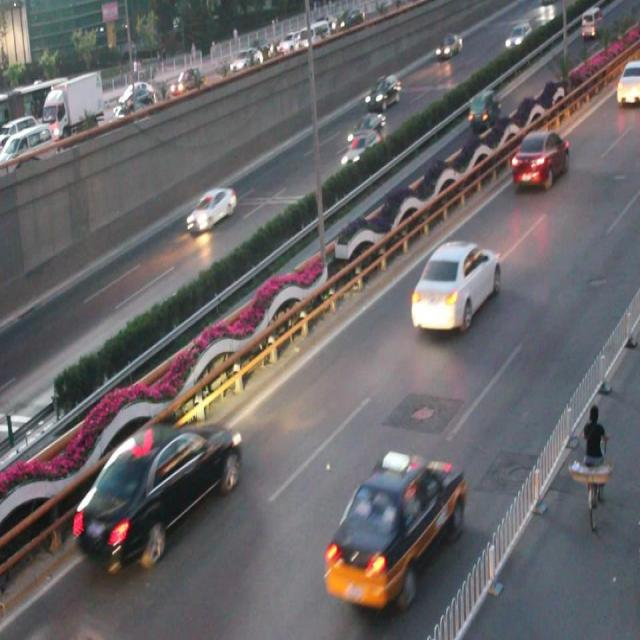car: (75, 419, 240, 565), (322, 454, 464, 606), (410, 239, 499, 332), (509, 126, 568, 187), (185, 186, 236, 235), (363, 74, 400, 114), (466, 89, 502, 130), (339, 131, 378, 166), (346, 113, 386, 147)
